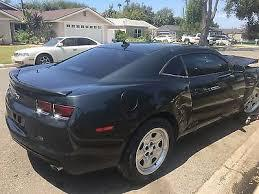doorouter-dent: (195, 73, 243, 113)
quaterpanel-dent: (159, 81, 192, 136)
